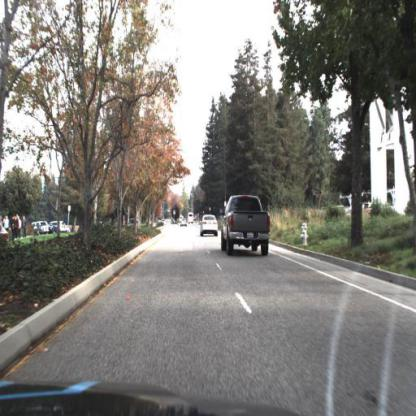car: (222, 195, 271, 259), (200, 213, 220, 241), (51, 219, 69, 235)
pedestrian: (1, 213, 28, 242)
